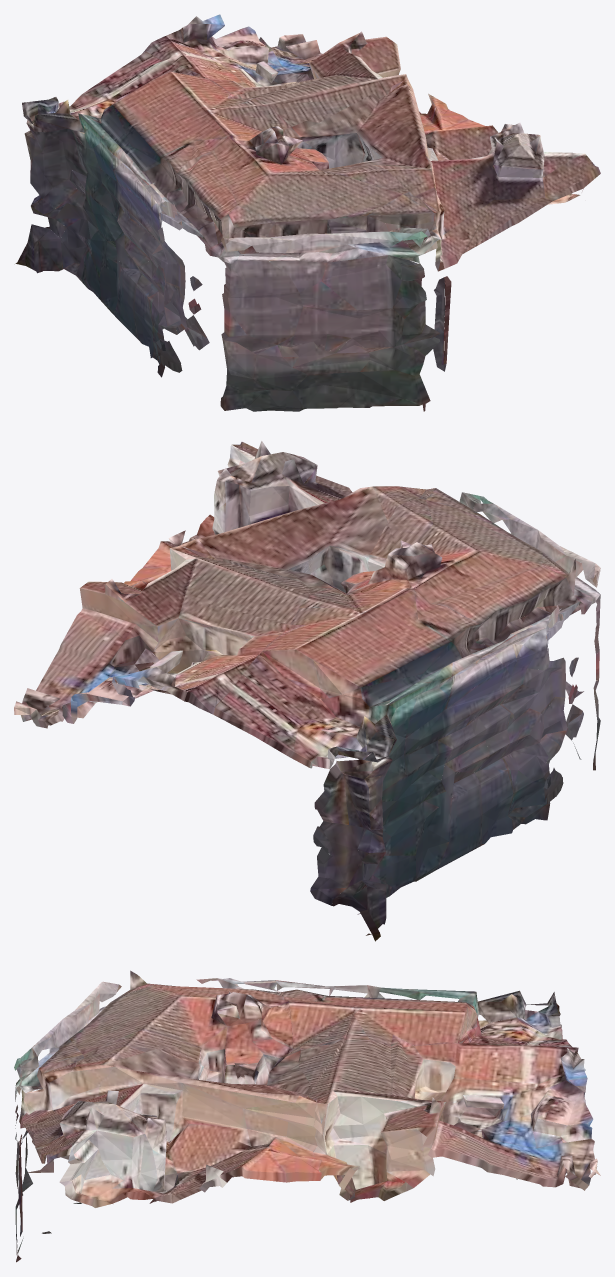
The picture shows the model from 3 angles, top to bottom: view 1: azimuth 30°, elevation 25°; view 2: azimuth 150°, elevation 25°; view 3: azimuth 270°, elevation 25°; orthographic projection. The views are drawn at different scales.
Visible parts, largest first — view 1: Mesh_0; view 2: Mesh_0; view 3: Mesh_0.
Part boxes in pixels (x1,y1,x2,y2): Mesh_0: [15, 14, 600, 411]; Mesh_0: [14, 441, 600, 941]; Mesh_0: [14, 970, 600, 1262].
Size of the model in its own units: 31.02 by 18.34 by 40.22.
Materials: 2 (2 with a texture image).
